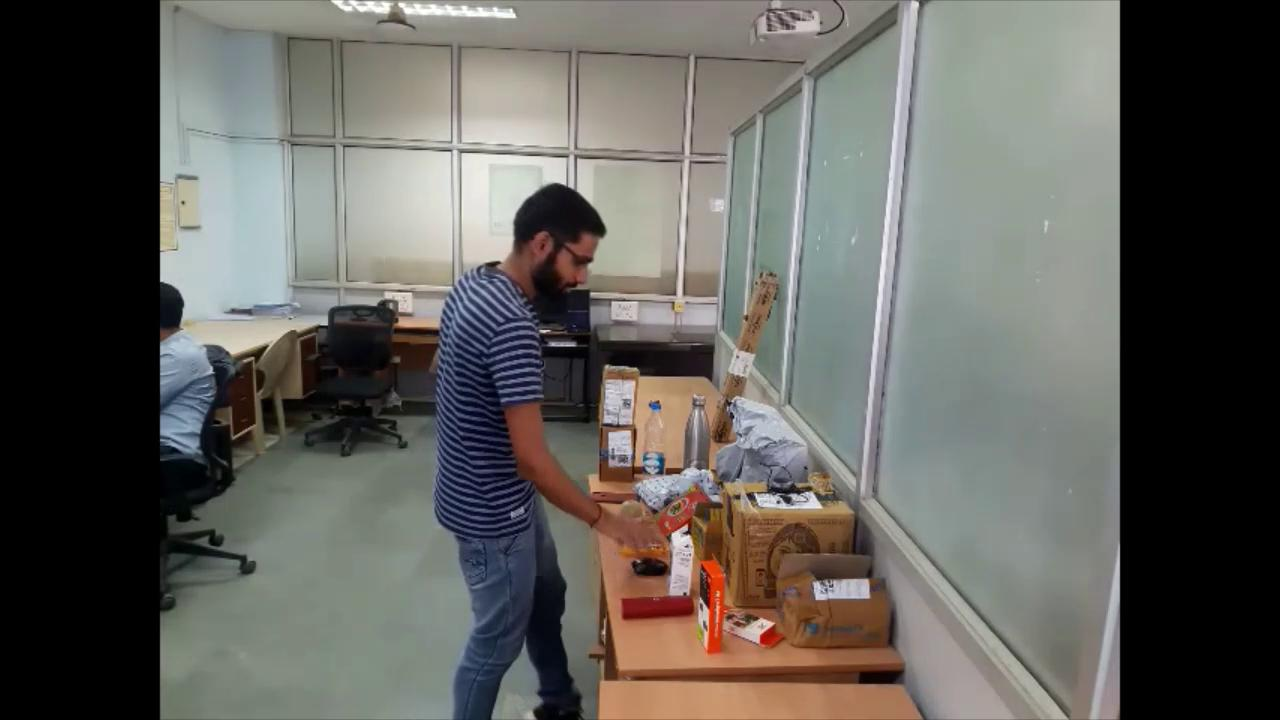Normal: (421, 182, 671, 717)
